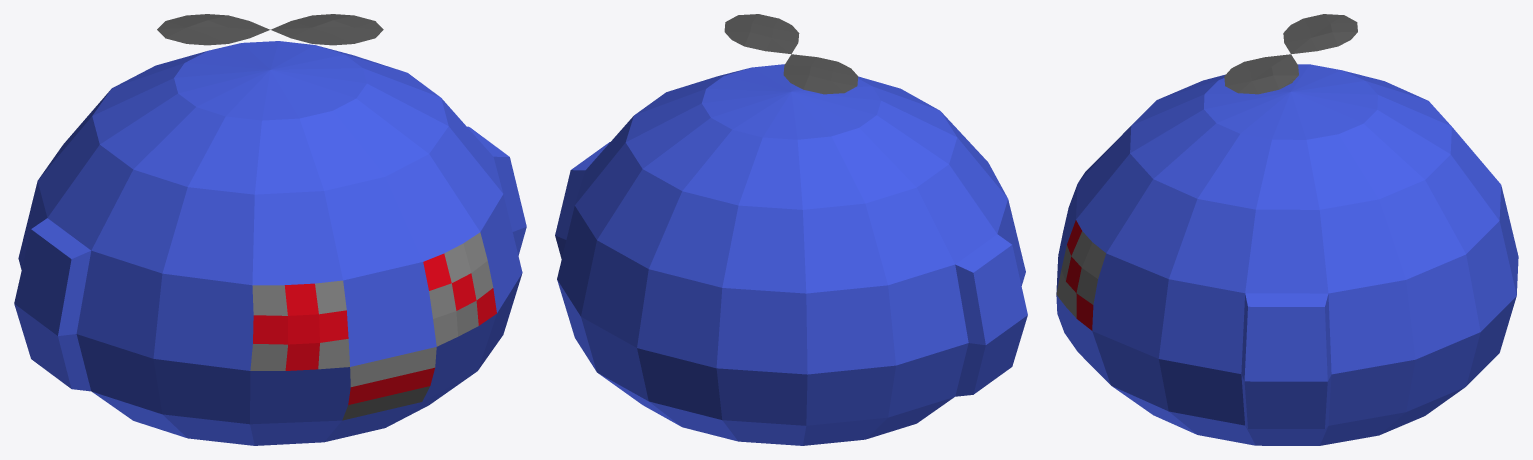
File: drone.glb
3 views of the same model, side by side, from view 1: azimuth 30°, elevation 25°; view 2: azimuth 150°, elevation 25°; view 3: azimuth 270°, elevation 25° (orthographic). The views are drawn at different scales.
Parts seen in each view (by area): view 1: Sphere; view 2: Sphere; view 3: Sphere.
Boxes of the visible parts, bbox=[...] form: Sphere: bbox=[14, 14, 526, 445]; Sphere: bbox=[555, 14, 1027, 445]; Sphere: bbox=[1056, 14, 1518, 445].
Bounding box in the file's own units: 1.7 × 1.3 × 1.56.
